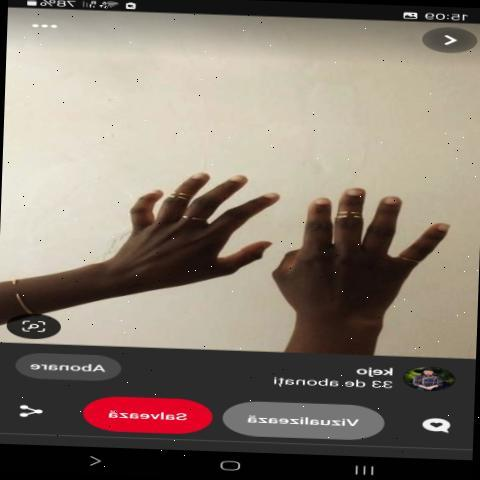Hands: (265, 152, 469, 345), (69, 149, 288, 301)
